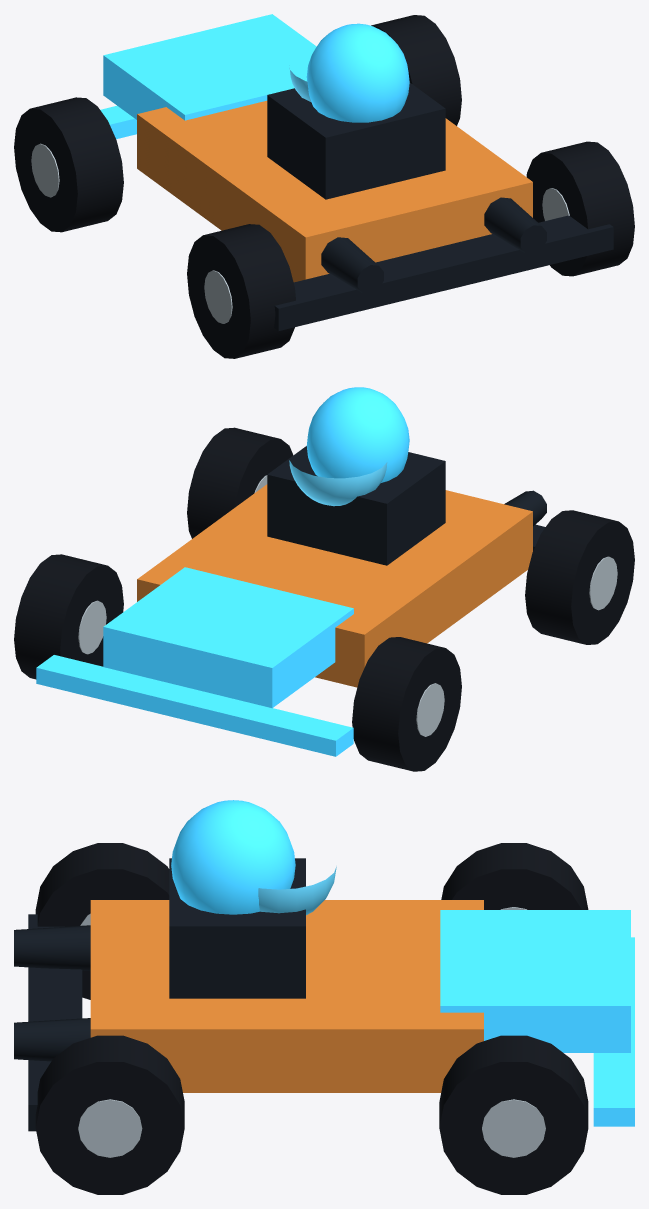
File: stk-kart.glb
3 renders of one model, top to bottom at view 1: azimuth 30°, elevation 25°; view 2: azimuth 150°, elevation 25°; view 3: azimuth 270°, elevation 25°, orthographic. The views are drawn at different scales.
Visible parts, largest first — view 1: MainBody, FrontCowling, Seat, RearBumper, TireFrontLeft, TireRearLeft, DriverHelmet, TireRearRight, TireFrontRight, ExhaustLeft, ExhaustRight, RimFrontLeft (+3 smaller); view 2: MainBody, FrontCowling, Seat, TireFrontLeft, TireRearLeft, FrontBumper, TireFrontRight, DriverHelmet, TireRearRight, DriverVisor, RimFrontLeft, RimRearLeft (+2 smaller); view 3: MainBody, FrontCowling, TireFrontRight, TireRearRight, Seat, DriverHelmet, TireRearLeft, TireFrontLeft, RearBumper, FrontBumper, ExhaustLeft, RimFrontRight (+3 smaller).
Boxes of the visible parts, bbox=[...] form: MainBody: bbox=[137, 100, 532, 282]; FrontCowling: bbox=[103, 14, 316, 120]; Seat: bbox=[267, 82, 445, 199]; RearBumper: bbox=[274, 215, 613, 331]; TireFrontLeft: bbox=[14, 97, 123, 232]; TireRearLeft: bbox=[187, 224, 295, 358]; DriverHelmet: bbox=[306, 23, 409, 122]; TireRearRight: bbox=[526, 141, 634, 276]; TireFrontRight: bbox=[371, 15, 461, 125]; ExhaustLeft: bbox=[321, 237, 383, 293]; ExhaustRight: bbox=[484, 197, 546, 253]; RimFrontLeft: bbox=[31, 143, 59, 197]; MainBody: bbox=[137, 484, 532, 687]; FrontCowling: bbox=[103, 567, 353, 708]; Seat: bbox=[267, 446, 445, 565]; TireFrontLeft: bbox=[352, 637, 461, 771]; TireRearLeft: bbox=[525, 510, 634, 644]; FrontBumper: bbox=[36, 655, 353, 756]; TireFrontRight: bbox=[14, 554, 123, 679]; DriverHelmet: bbox=[306, 387, 409, 482]; TireRearRight: bbox=[187, 427, 293, 538]; DriverVisor: bbox=[289, 460, 387, 506]; RimFrontLeft: bbox=[416, 683, 444, 736]; RimRearLeft: bbox=[589, 556, 617, 610]; MainBody: bbox=[90, 900, 483, 1092]; FrontCowling: bbox=[440, 910, 630, 1052]; TireFrontRight: bbox=[439, 1035, 588, 1194]; TireRearRight: bbox=[35, 1035, 184, 1194]; Seat: bbox=[169, 858, 305, 998]; DriverHelmet: bbox=[171, 800, 295, 914]; TireRearLeft: bbox=[35, 843, 169, 999]; TireFrontLeft: bbox=[441, 843, 588, 909]; RearBumper: bbox=[28, 914, 82, 1131]; FrontBumper: bbox=[593, 937, 634, 1126]; ExhaustLeft: bbox=[14, 925, 90, 971]; RimFrontRight: bbox=[482, 1099, 545, 1157].
Size of the model in its own units: 2.51 by 1.49 by 3.
